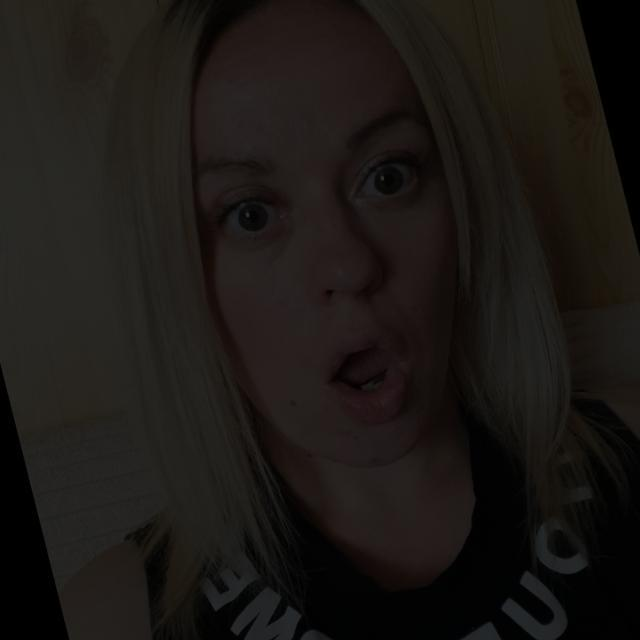Surprised: (122, 69, 524, 500)
